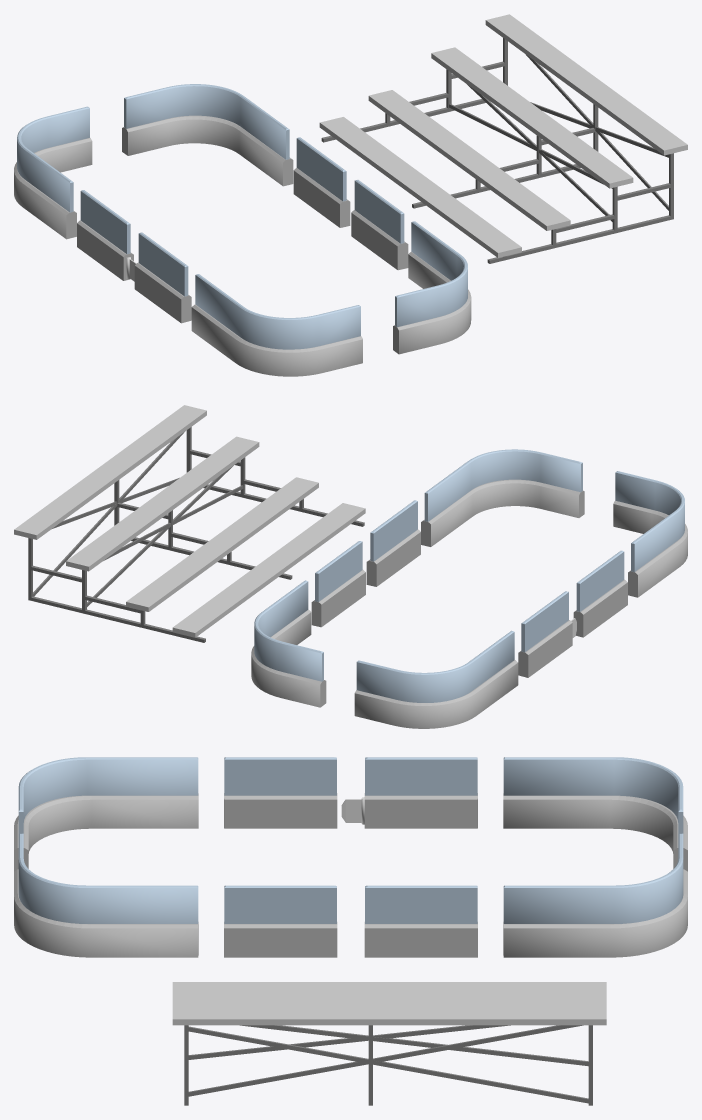
The model's file is rink and bleachers.fbx.
The picture shows the model from 3 angles, top to bottom: view 1: azimuth 30°, elevation 25°; view 2: azimuth 150°, elevation 25°; view 3: azimuth 270°, elevation 25°; orthographic projection. The views are drawn at different scales.
Parts seen in each view (by area): view 1: Rink Glass, Rink Wall, Bleachers, Seat 1, Seat 2, Seat 3, Seat 4; view 2: Rink Glass, Rink Wall, Bleachers, Seat 2, Seat 4, Seat 1, Seat 3; view 3: Rink Glass, Rink Wall, Seat 1, Bleachers, Seat 4, Seat 2, Seat 3.
Part boxes in pixels (bbox=[...]): Rink Glass: bbox=[17, 84, 467, 349]; Rink Wall: bbox=[14, 115, 471, 376]; Bleachers: bbox=[321, 38, 673, 263]; Seat 1: bbox=[485, 14, 687, 155]; Seat 2: bbox=[431, 47, 633, 188]; Seat 3: bbox=[368, 90, 570, 230]; Seat 4: bbox=[319, 117, 521, 257]; Rink Glass: bbox=[254, 449, 684, 702]; Rink Wall: bbox=[251, 479, 687, 728]; Bleachers: bbox=[28, 427, 364, 642]; Seat 2: bbox=[66, 436, 259, 571]; Seat 4: bbox=[172, 503, 365, 637]; Seat 1: bbox=[14, 405, 206, 539]; Seat 3: bbox=[126, 477, 318, 611]; Rink Glass: bbox=[18, 757, 683, 923]; Rink Wall: bbox=[14, 793, 687, 957]; Seat 1: bbox=[172, 1005, 606, 1025]; Bleachers: bbox=[184, 1025, 592, 1105]; Seat 4: bbox=[172, 982, 606, 992]; Seat 2: bbox=[172, 996, 606, 1004]; Seat 3: bbox=[172, 992, 606, 996].
Bounding box in the file's own units: 428 × 63.66 × 422.
